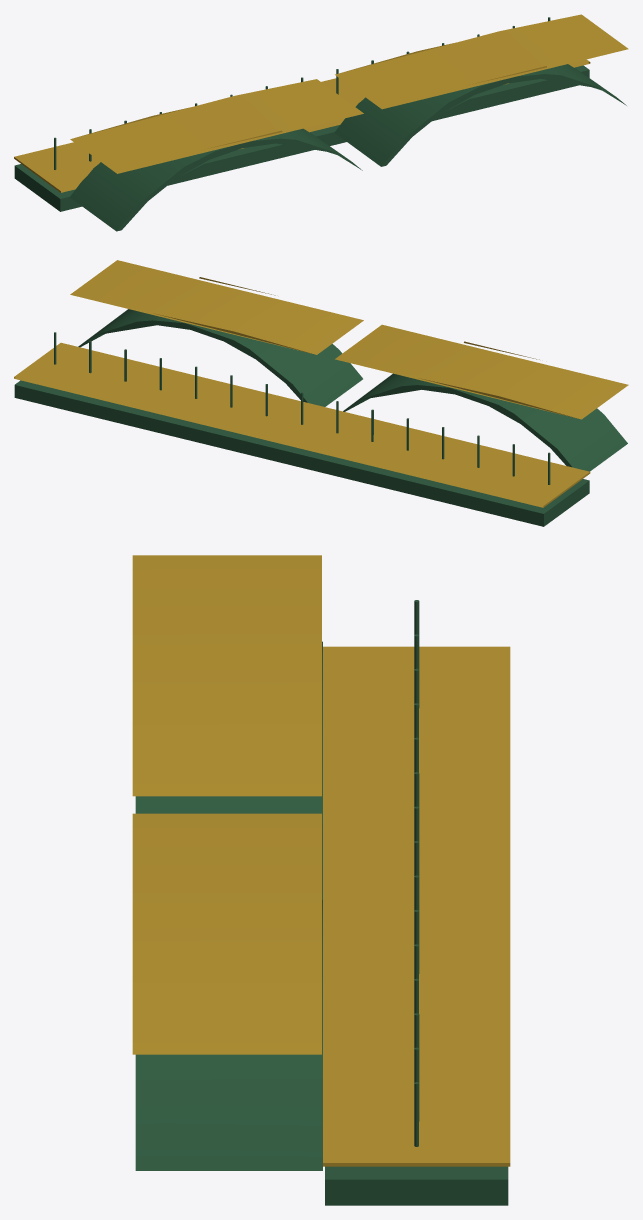
File: l-barnes-railway-bridge.lod1.glb
3 views of the same model, one above another, from view 1: azimuth 30°, elevation 25°; view 2: azimuth 150°, elevation 25°; view 3: azimuth 270°, elevation 25° (orthographic). The views are drawn at different scales.
Visible parts, largest first — view 1: part2, part4, part1, part3, part0, part20; view 2: part20, part4, part2, part0, part1, part3; view 3: part20, part2, part4, part3, part0, part1.
Boxes of the visible parts, box(x1,y1,x2,y2) form: part2: box(70, 79, 363, 173); part4: box(335, 14, 628, 109); part1: box(70, 128, 362, 231); part3: box(334, 64, 626, 166); part0: box(14, 65, 589, 211); part20: box(14, 59, 590, 192); part20: box(14, 342, 590, 507); part4: box(70, 260, 363, 354); part2: box(335, 324, 628, 419); part0: box(14, 380, 589, 526); part1: box(343, 373, 627, 471); part3: box(78, 309, 362, 406); part20: box(323, 646, 510, 1166); part2: box(132, 555, 321, 796); part4: box(132, 813, 321, 1054); part3: box(135, 900, 322, 1170); part0: box(325, 1166, 508, 1205); part1: box(135, 641, 322, 899).
Bounding box in the file's own units: 60000 × 8055 × 18550.
